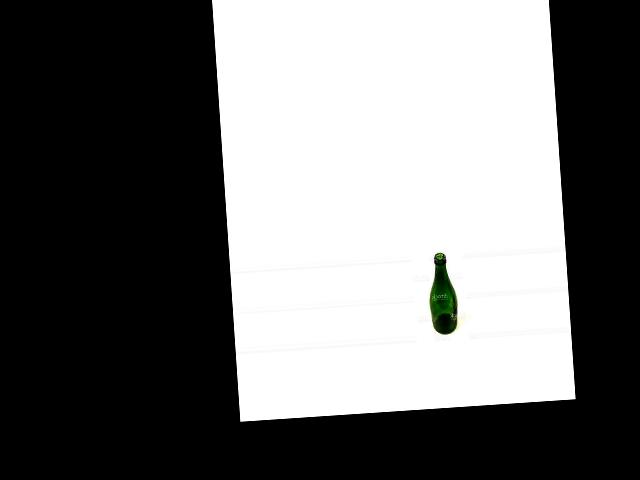beer: (425, 251, 459, 335)
